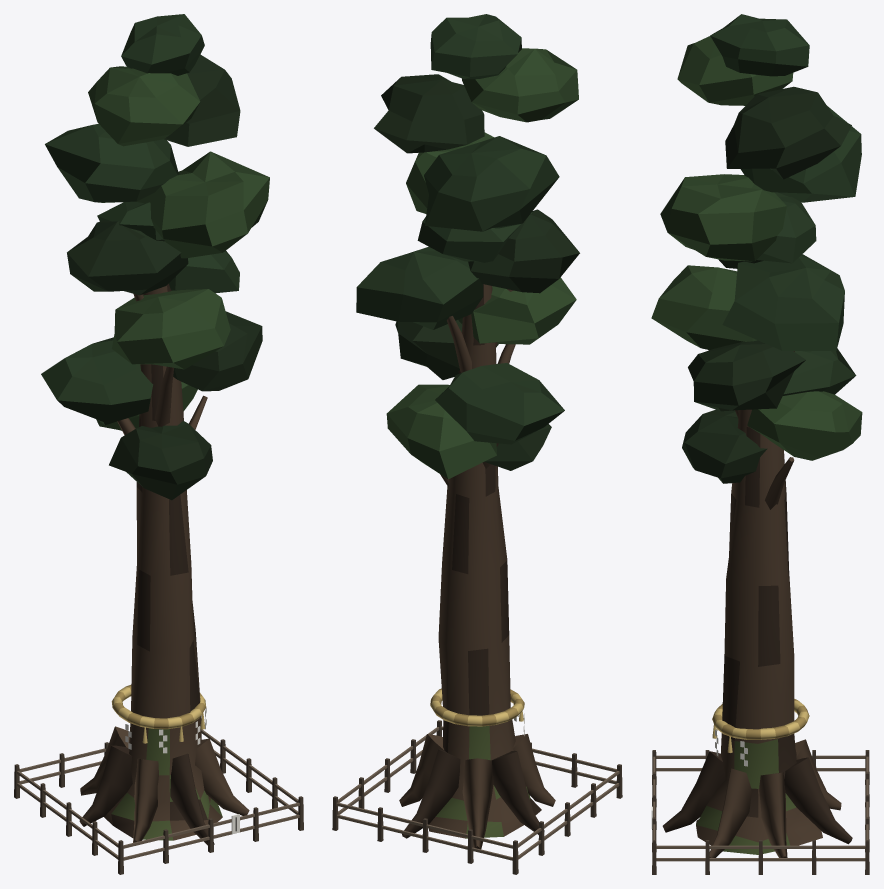
File: shinboku.glb
3 views of the same model, side by side, from view 1: azimuth 30°, elevation 25°; view 2: azimuth 150°, elevation 25°; view 3: azimuth 270°, elevation 25° (orthographic). The views are drawn at different scales.
Visible parts, largest first — view 1: foliage, trunk, fence, shimenawa, branches; view 2: foliage, trunk, fence, shimenawa, branches; view 3: foliage, trunk, fence, shimenawa, branches.
Boxes of the visible parts, <box> form: foliage: <box>41,14,269,500</box>; trunk: <box>79,283,249,845</box>; fence: <box>14,729,303,874</box>; shimenawa: <box>111,685,206,753</box>; branches: <box>117,293,207,435</box>; foliage: <box>356,14,579,479</box>; trunk: <box>399,284,555,849</box>; fence: <box>332,720,622,874</box>; shimenawa: <box>430,688,524,735</box>; branches: <box>440,289,515,487</box>; foliage: <box>651,14,862,483</box>; trunk: <box>662,409,852,857</box>; fence: <box>651,750,869,874</box>; shimenawa: <box>712,699,809,766</box>; branches: <box>708,350,794,509</box>.
Size of the model in its own units: 3.92 by 15.78 by 3.85.
